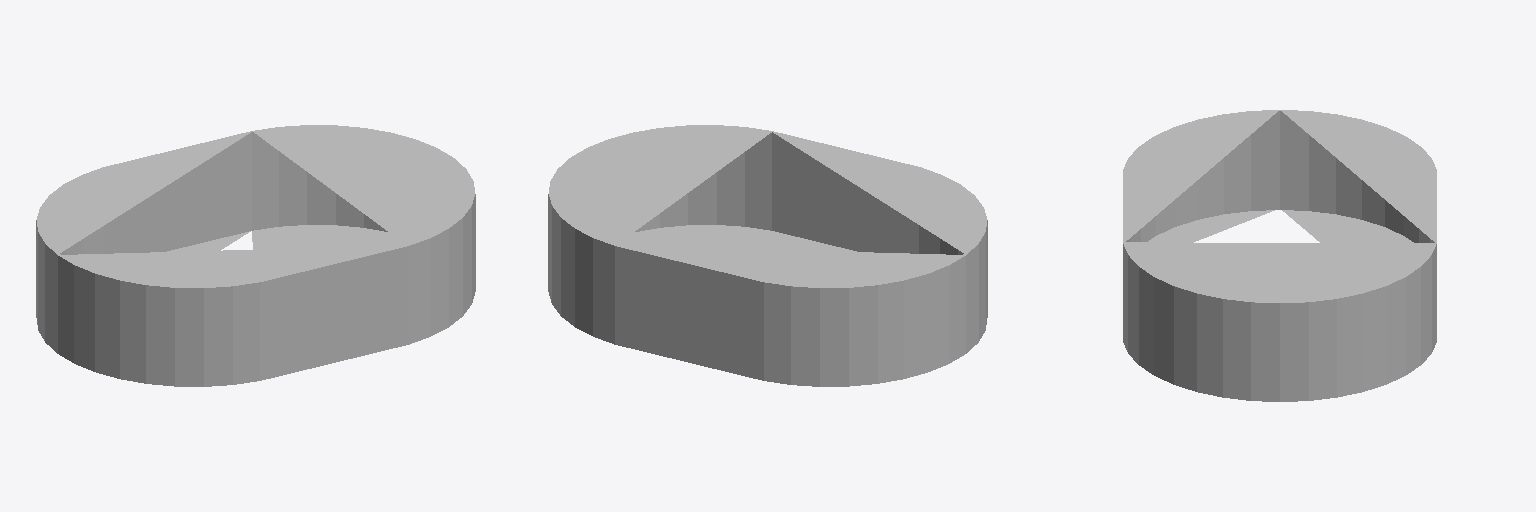
File: ROOM_WALL.obj
The picture shows the model from 3 angles: view 1: azimuth 30°, elevation 25°; view 2: azimuth 150°, elevation 25°; view 3: azimuth 270°, elevation 25°; orthographic projection.
Visible parts, largest first — view 1: Wall.002_Circle.002; view 2: Wall.002_Circle.002; view 3: Wall.002_Circle.002.
Part boxes in pixels (left/top/right/bottom): Wall.002_Circle.002: left=36, top=125, right=475, bottom=386; Wall.002_Circle.002: left=548, top=125, right=987, bottom=386; Wall.002_Circle.002: left=1123, top=110, right=1436, bottom=401.
Size of the model in its own units: 20.05 by 4.77 by 13.75.